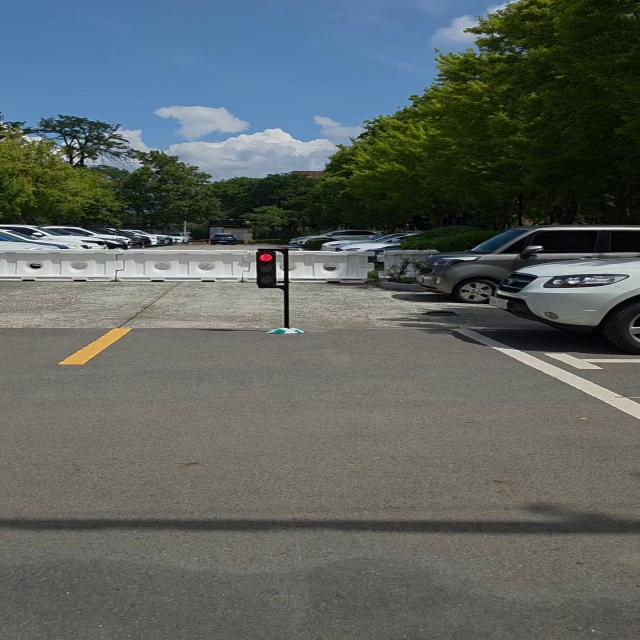red: (253, 246, 280, 288)
